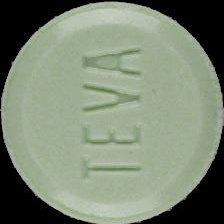54458-870: (0, 0, 224, 224)
